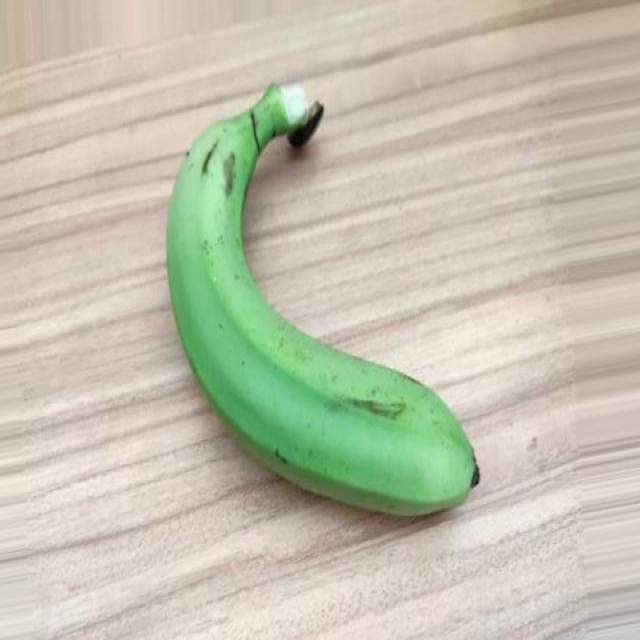Unripe: (167, 80, 483, 514)
